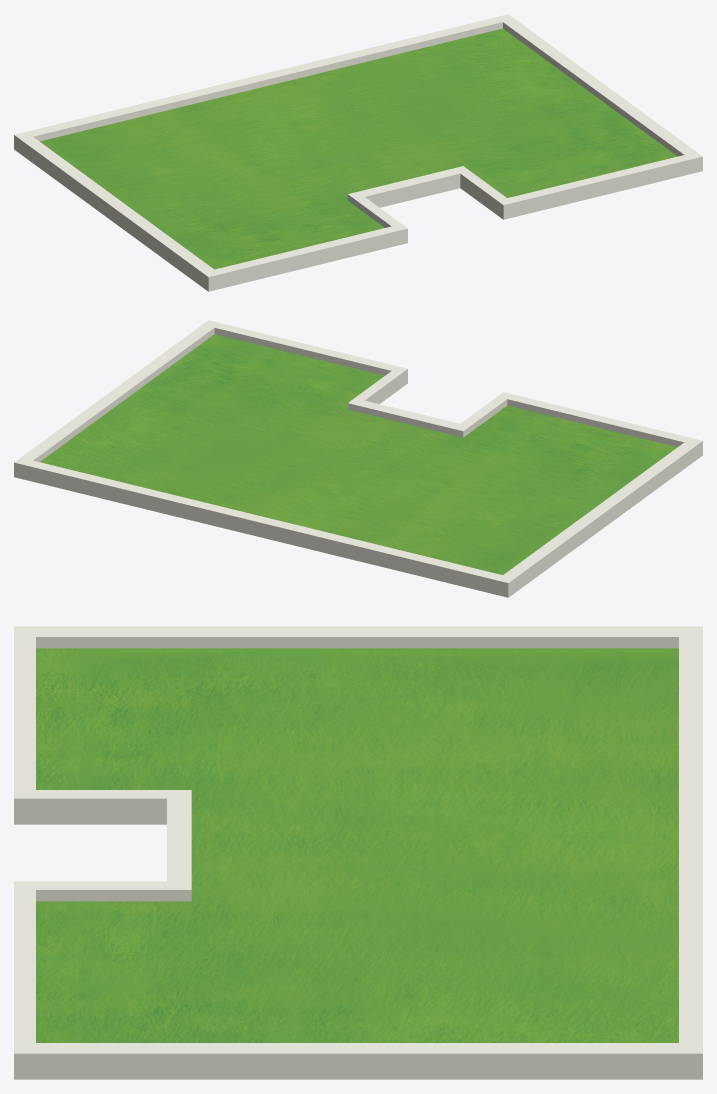
Rendered from fbx_school_outdoor_garden2.fbx.
The picture shows the model from 3 angles, top to bottom: view 1: azimuth 30°, elevation 25°; view 2: azimuth 150°, elevation 25°; view 3: azimuth 270°, elevation 25°; orthographic projection. The views are drawn at different scales.
Visible parts, largest first — view 1: fbx_school_outdoor_garden2; view 2: fbx_school_outdoor_garden2; view 3: fbx_school_outdoor_garden2.
Boxes of the visible parts, x1,y1,x2,y2 form: fbx_school_outdoor_garden2: (14, 14, 702, 291); fbx_school_outdoor_garden2: (14, 320, 702, 597); fbx_school_outdoor_garden2: (14, 626, 702, 1079).
Bounding box in the file's own units: 5.46 × 0.1547 × 3.72.
2 materials, 2 textured.
